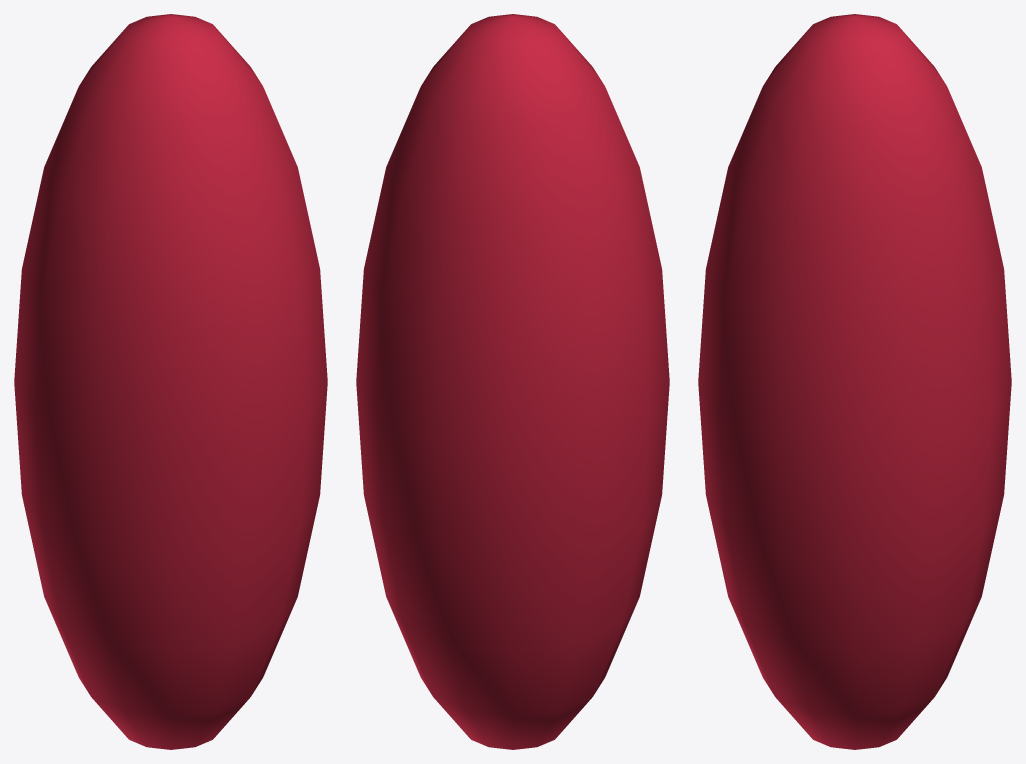
Rendered from leech-body.glb.
The picture shows the model from 3 angles, left to right: view 1: azimuth 30°, elevation 25°; view 2: azimuth 150°, elevation 25°; view 3: azimuth 270°, elevation 25°; orthographic projection.
Visible parts, largest first — view 1: Gummy leech; view 2: Gummy leech; view 3: Gummy leech.
Boxes of the visible parts, x1,y1,x2,y2 form: Gummy leech: (14, 14, 327, 749); Gummy leech: (356, 14, 669, 749); Gummy leech: (698, 14, 1011, 749).
Bounding box in the file's own units: 0.14 × 0.36 × 0.14.
